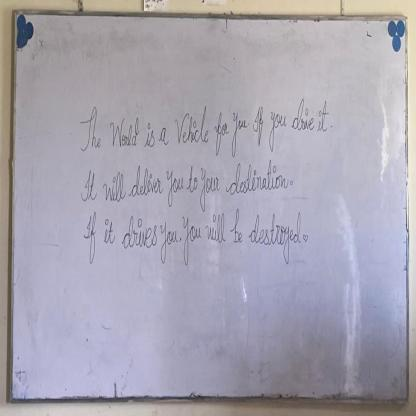Handwritten text: (78, 88, 329, 157), (75, 206, 303, 266), (82, 159, 290, 212)
Whiteboard: (10, 9, 410, 403)
